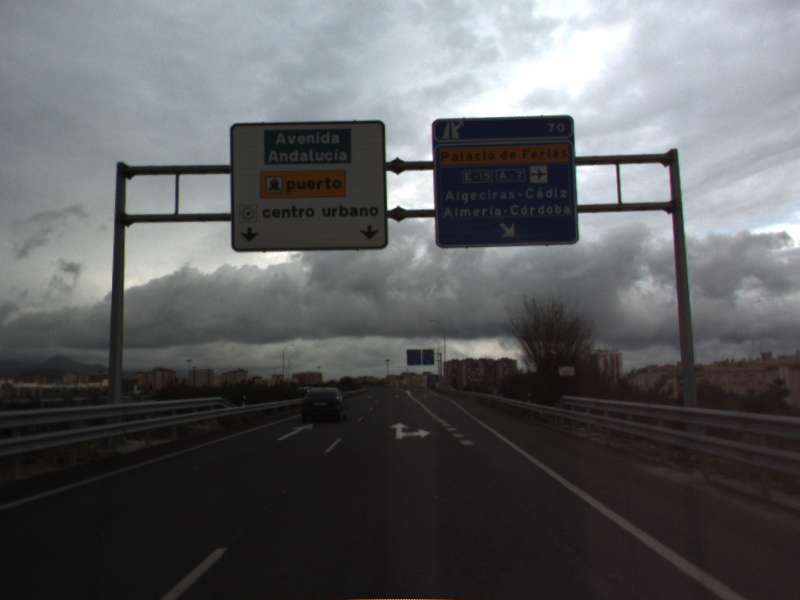STRAIGHT: (275, 421, 316, 442)
STRAIGHT_RIGHT: (388, 421, 434, 441)
